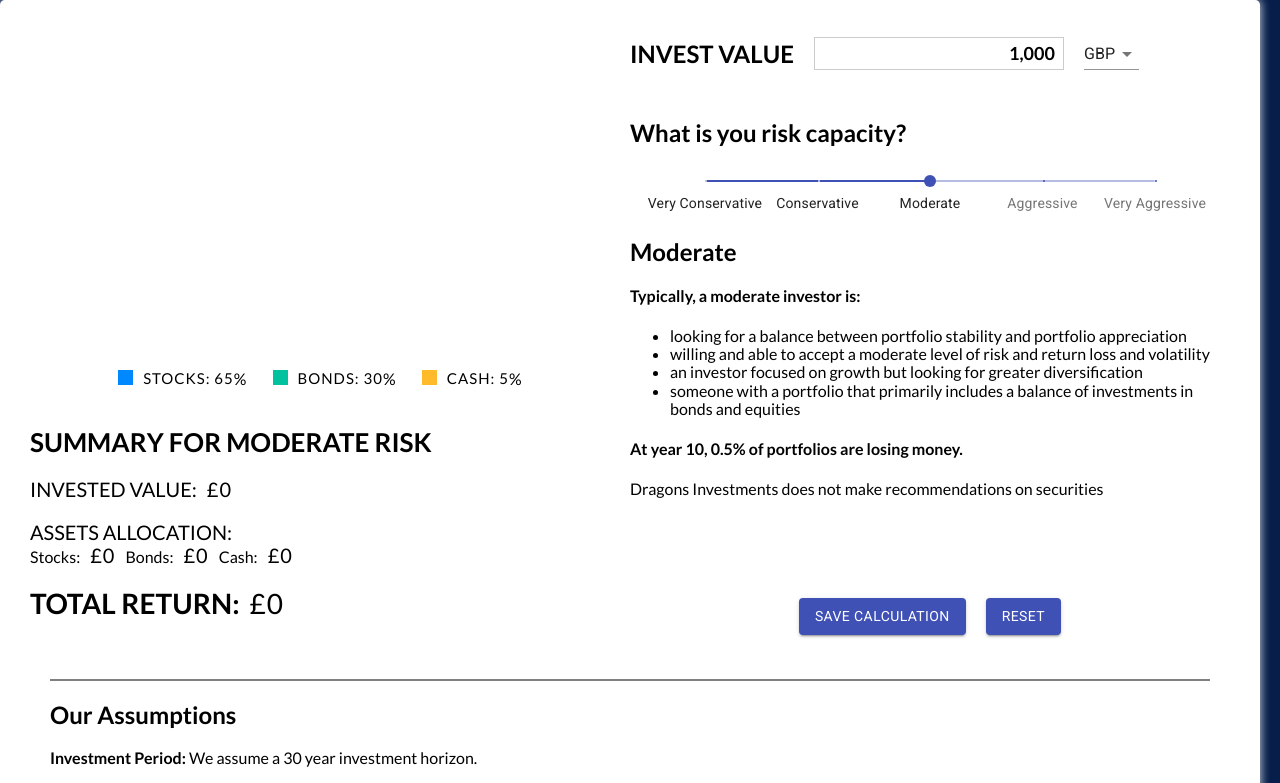
Test: <Basket/> › sets id on /basket url after submit
Click the button "Save Calculation" at {"x": 882, "y": 616}, box [799,598,966,635]
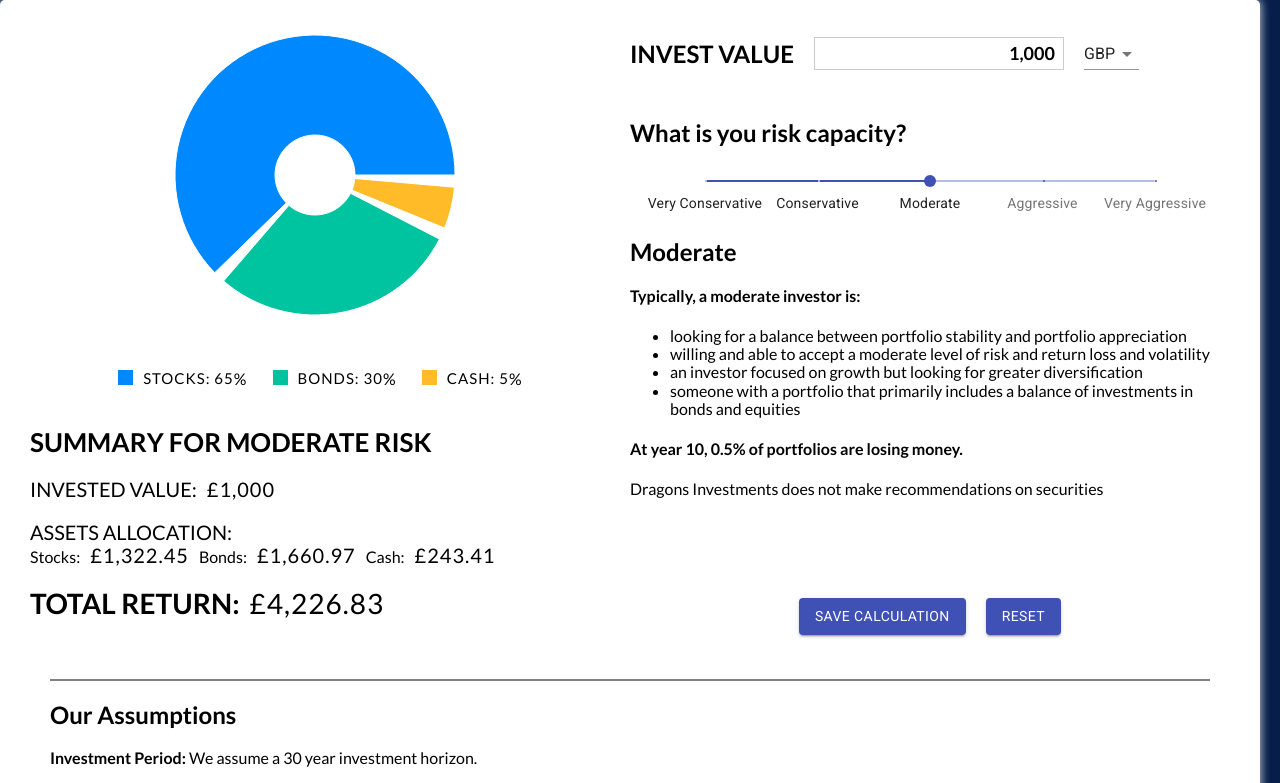
Expected: the text "£4,226.83" is shown, [250,587,384,620]
